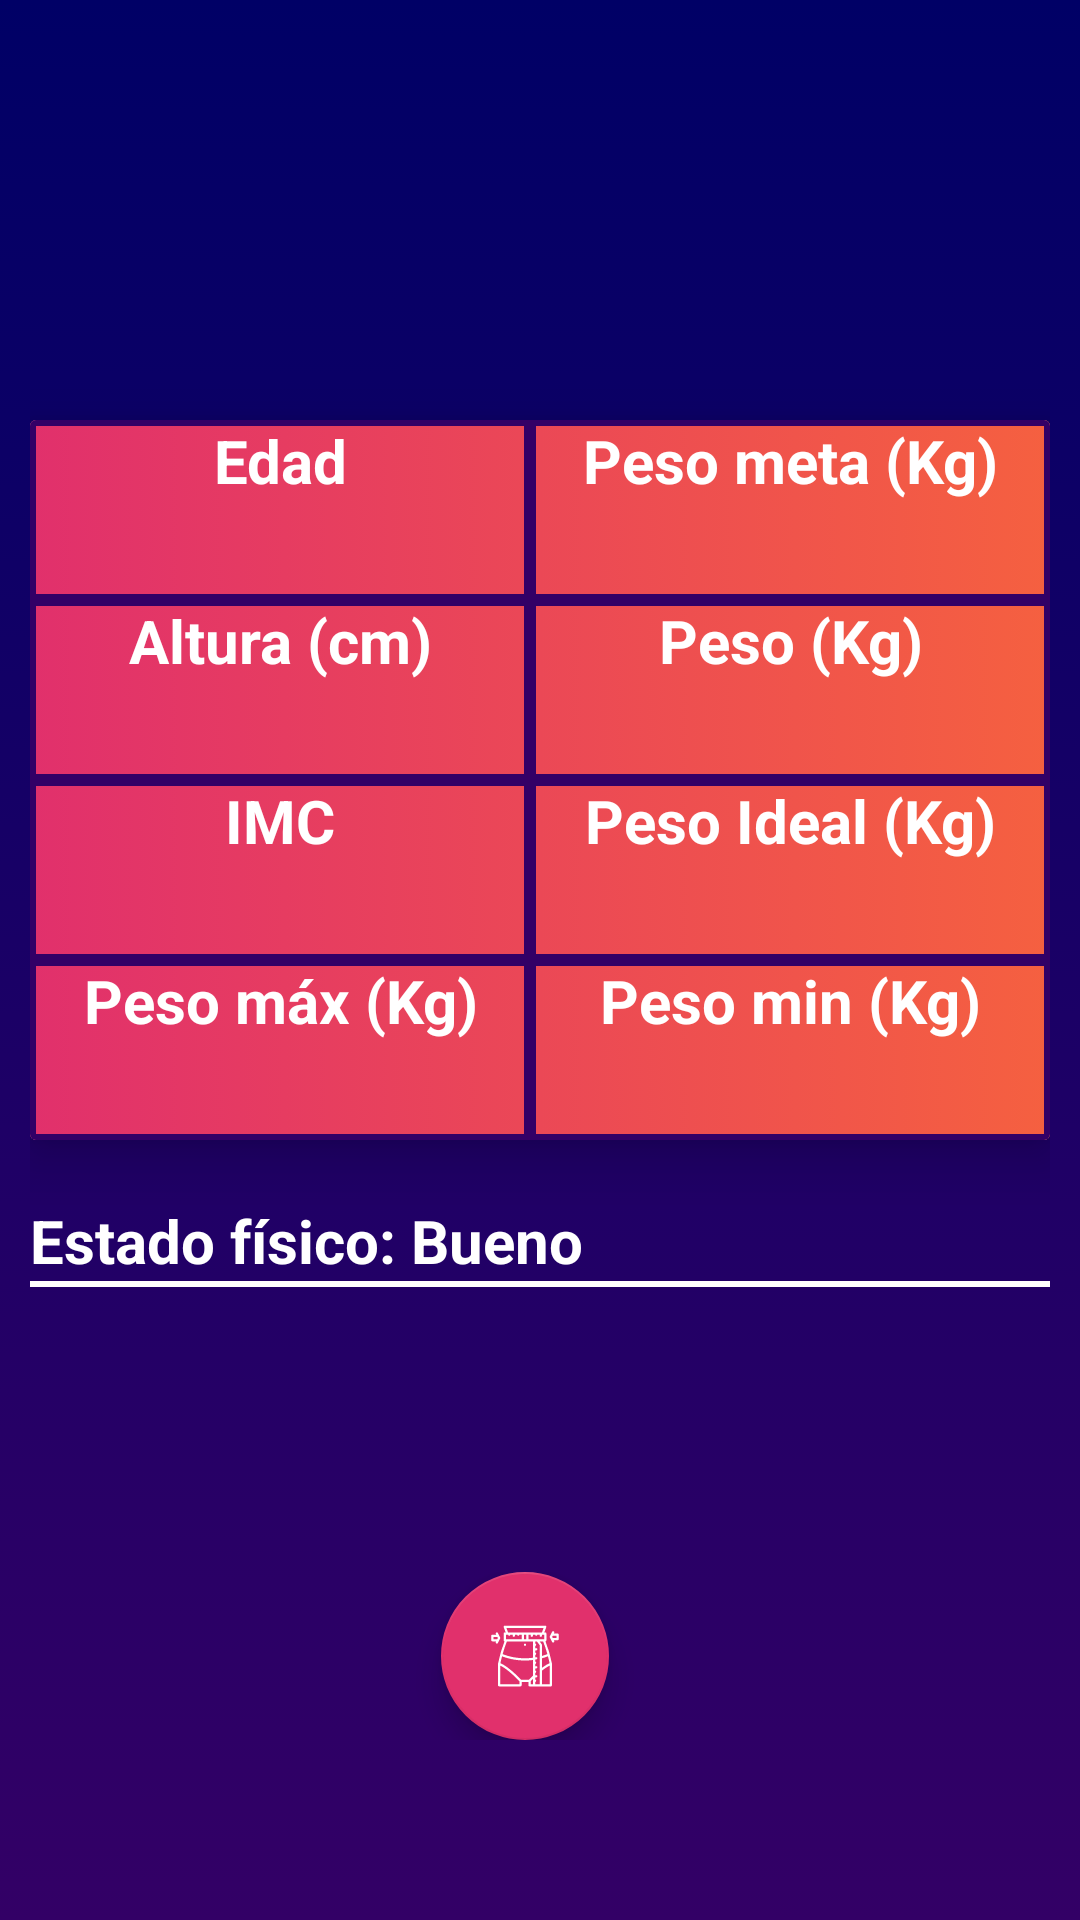

Icons on this 1080px x 1920px Android screen, each with the point to tap as point (x, y):
peso: point (525, 1656)
